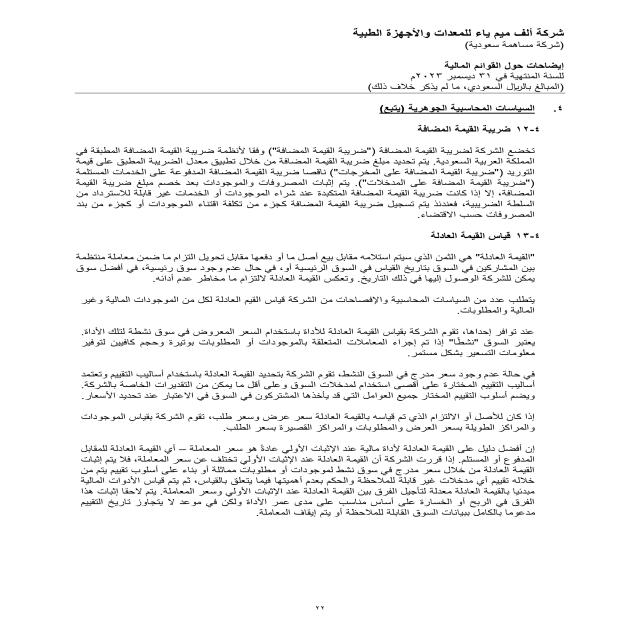notes: (436, 57, 577, 72)
text: (36, 100, 576, 542)
